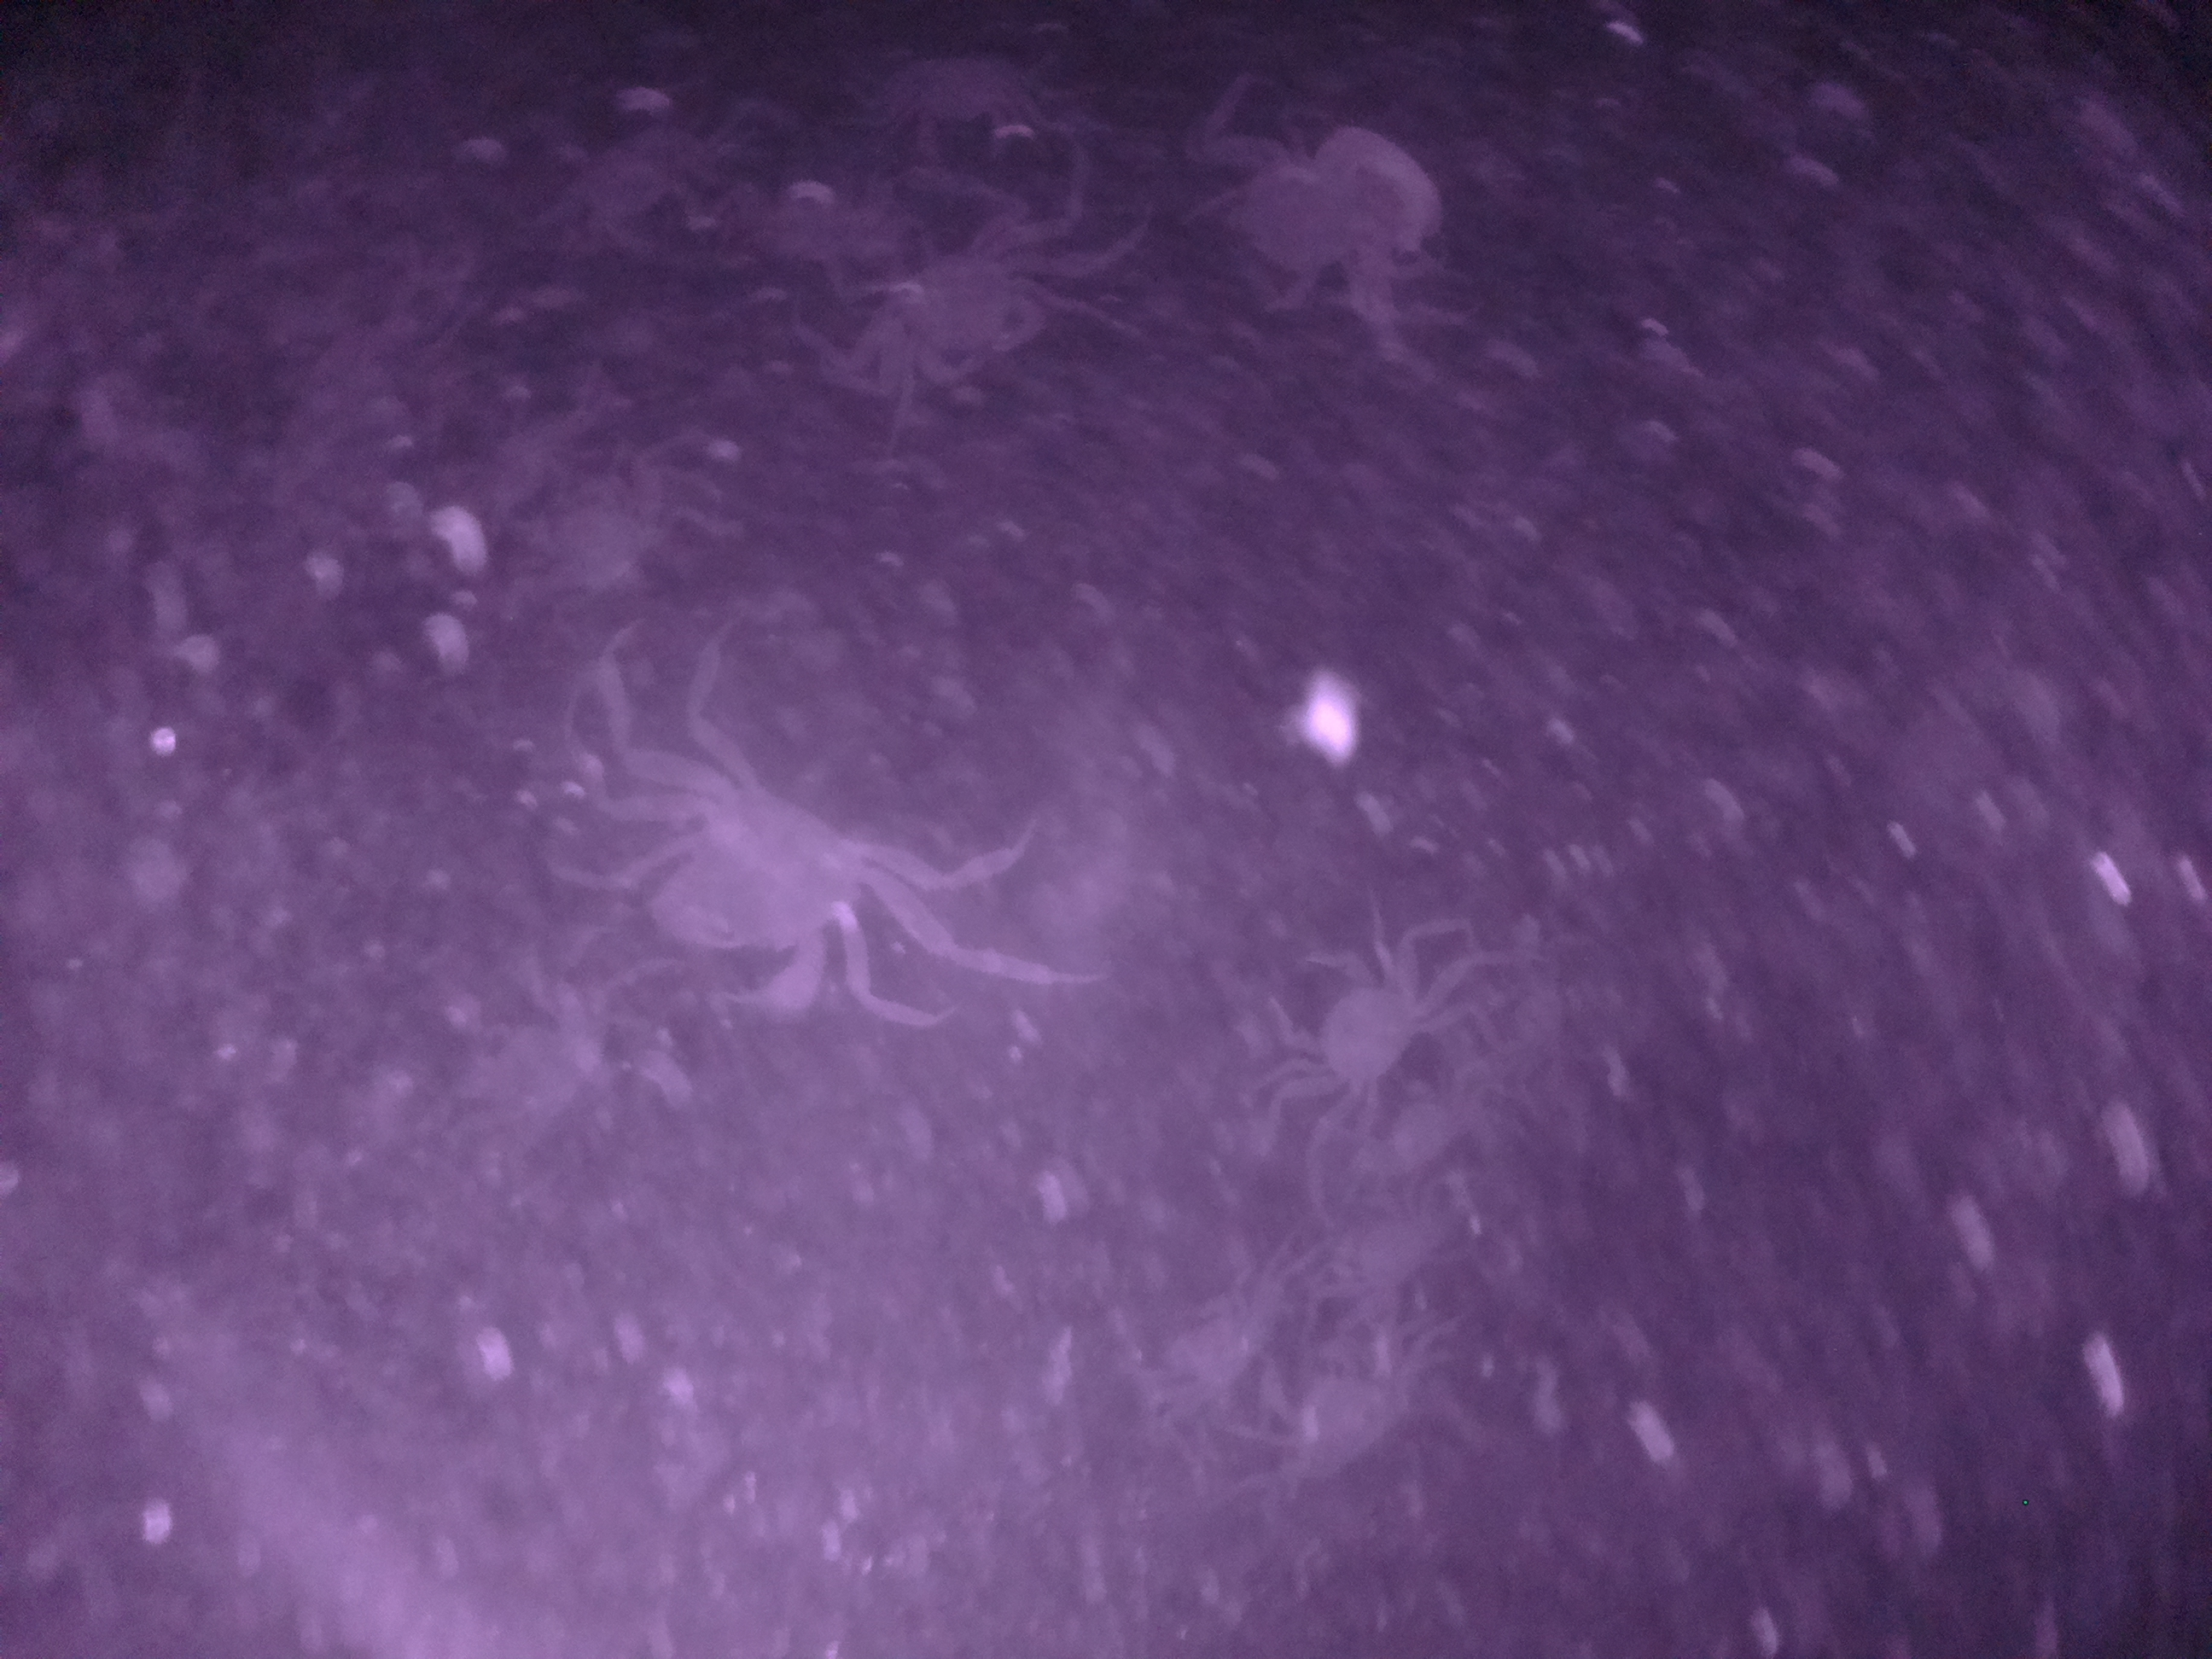Crab: (846, 207, 1073, 406), (1254, 917, 1453, 1129)
